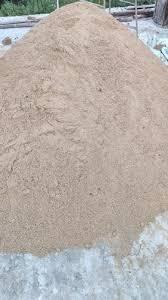sand: (35, 138, 64, 165), (75, 68, 105, 92), (105, 165, 135, 187), (72, 12, 88, 35)
